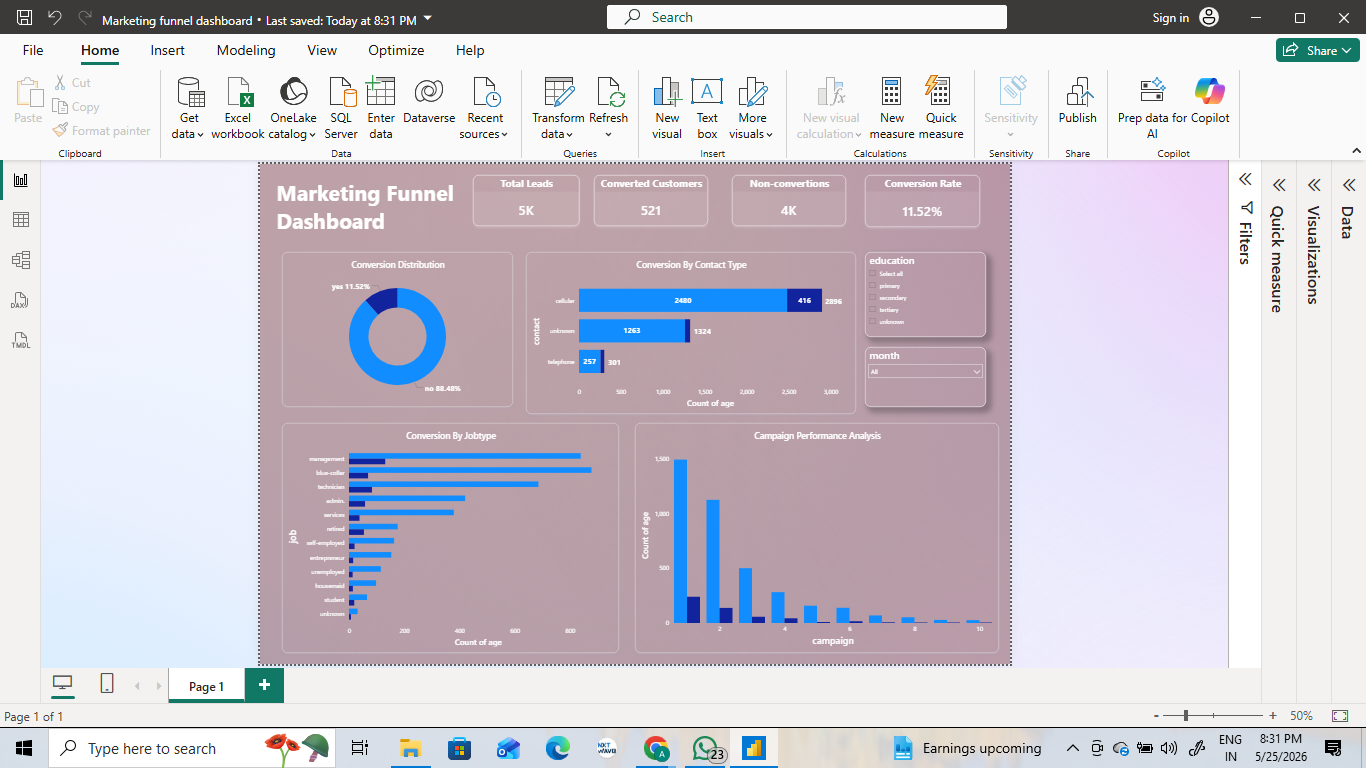

This screenshot's page, from the dashboard's own definition file:
{"tool":"powerbi","page":{"name":"Page 1","canvas":[1500,1000],"ordinal":0},"visuals":[{"type":"cardVisual","title":"Total Leads","fields":{"Data":["bank.Total Leads"]},"box":[426.2,23,213.1,102.4],"z":0},{"type":"cardVisual","title":"Converted Customers","fields":{"Data":["bank.Converted Customers"]},"box":[668.5,23,227.7,102.4],"z":1000},{"type":"cardVisual","title":"Non-convertions","fields":{"Data":["bank.Non-Conversions"]},"box":[944.3,23,227.7,102.4],"z":2000},{"type":"cardVisual","title":"Conversion Rate","fields":{"Data":["bank.Conversion Rate"]},"box":[1210,22,230,104],"z":3000},{"type":"donutChart","title":"Conversion Distribution","fields":{"Category":["bank.y"],"Y":["CountNonNull(bank.age)"]},"box":[44,176,462,310],"z":4000},{"type":"barChart","title":"Conversion By Contact Type","fields":{"Category":["bank.contact"],"Y":["CountNonNull(bank.age)"],"Series":["bank.y"]},"box":[532,176,660,324],"z":5000},{"type":"clusteredBarChart","title":"Conversion By Jobtype","fields":{"Y":["CountNonNull(bank.age)"],"Series":["bank.y"],"Category":["bank.job"]},"box":[44,518,674,460],"z":6000},{"type":"clusteredColumnChart","title":"Campaign Performance Analysis","fields":{"Y":["CountNonNull(bank.age)"],"Category":["bank.campaign"],"Series":["bank.y"]},"box":[750,518,728,460],"z":7000},{"type":"slicer","fields":{"Values":["bank.education"]},"box":[1210,176,242,170],"z":8000},{"type":"textbox","title":"Marketing Funnel Dashboard","box":[28,22,374,154],"z":10000},{"type":"slicer","fields":{"Values":["bank.month"]},"box":[1210,366,242,120],"z":10001}]}

Visuals, with their boxes on the page's 1500x1000 design canvas (x1, y1, x2, y2). These are canvas units, not pixel positions in the 1366x768 screenshot, which may show the page scaled, cropped or inside an application window:
"Total Leads" cardVisual: <region>426, 23, 639, 125</region>
"Converted Customers" cardVisual: <region>668, 23, 896, 125</region>
"Non-convertions" cardVisual: <region>944, 23, 1172, 125</region>
"Conversion Rate" cardVisual: <region>1210, 22, 1440, 126</region>
"Conversion Distribution" donutChart: <region>44, 176, 506, 486</region>
"Conversion By Contact Type" barChart: <region>532, 176, 1192, 500</region>
"Conversion By Jobtype" clusteredBarChart: <region>44, 518, 718, 978</region>
"Campaign Performance Analysis" clusteredColumnChart: <region>750, 518, 1478, 978</region>
slicer - bank.education: <region>1210, 176, 1452, 346</region>
"Marketing Funnel Dashboard" textbox: <region>28, 22, 402, 176</region>
slicer - bank.month: <region>1210, 366, 1452, 486</region>
